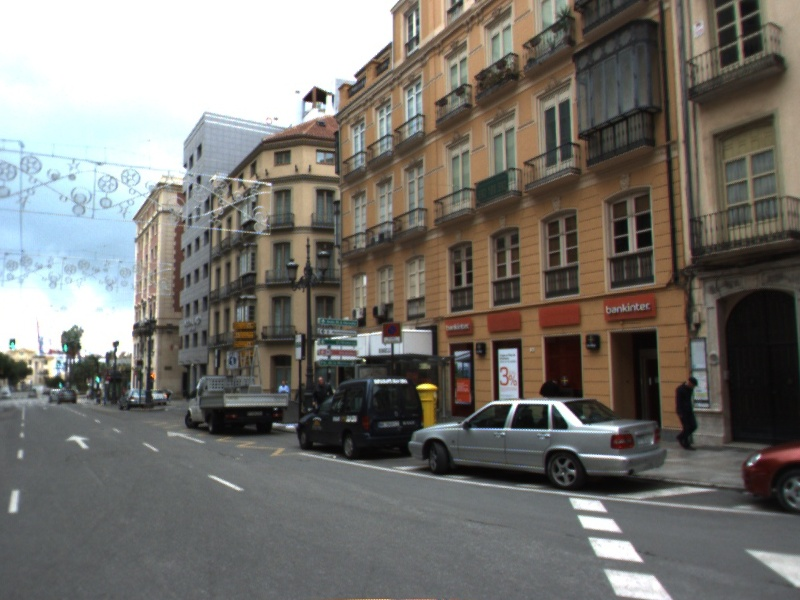STRAIGHT: (164, 428, 209, 446), (63, 433, 93, 451)
